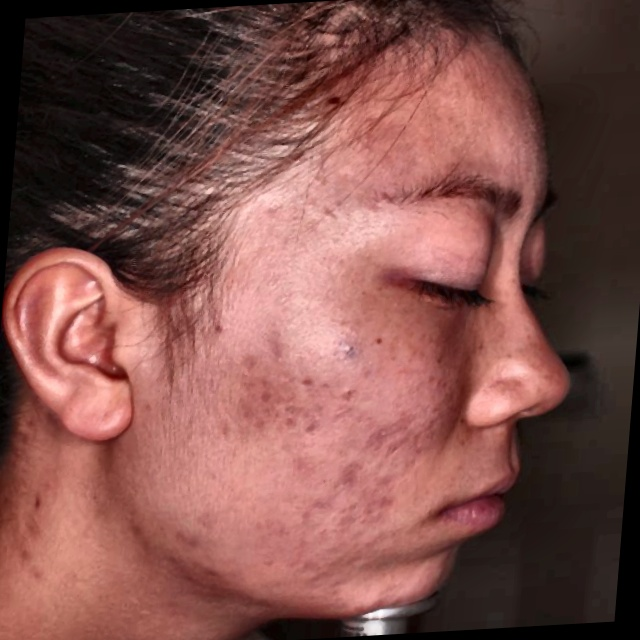comedone: (378, 428, 433, 467), (339, 457, 369, 499)
